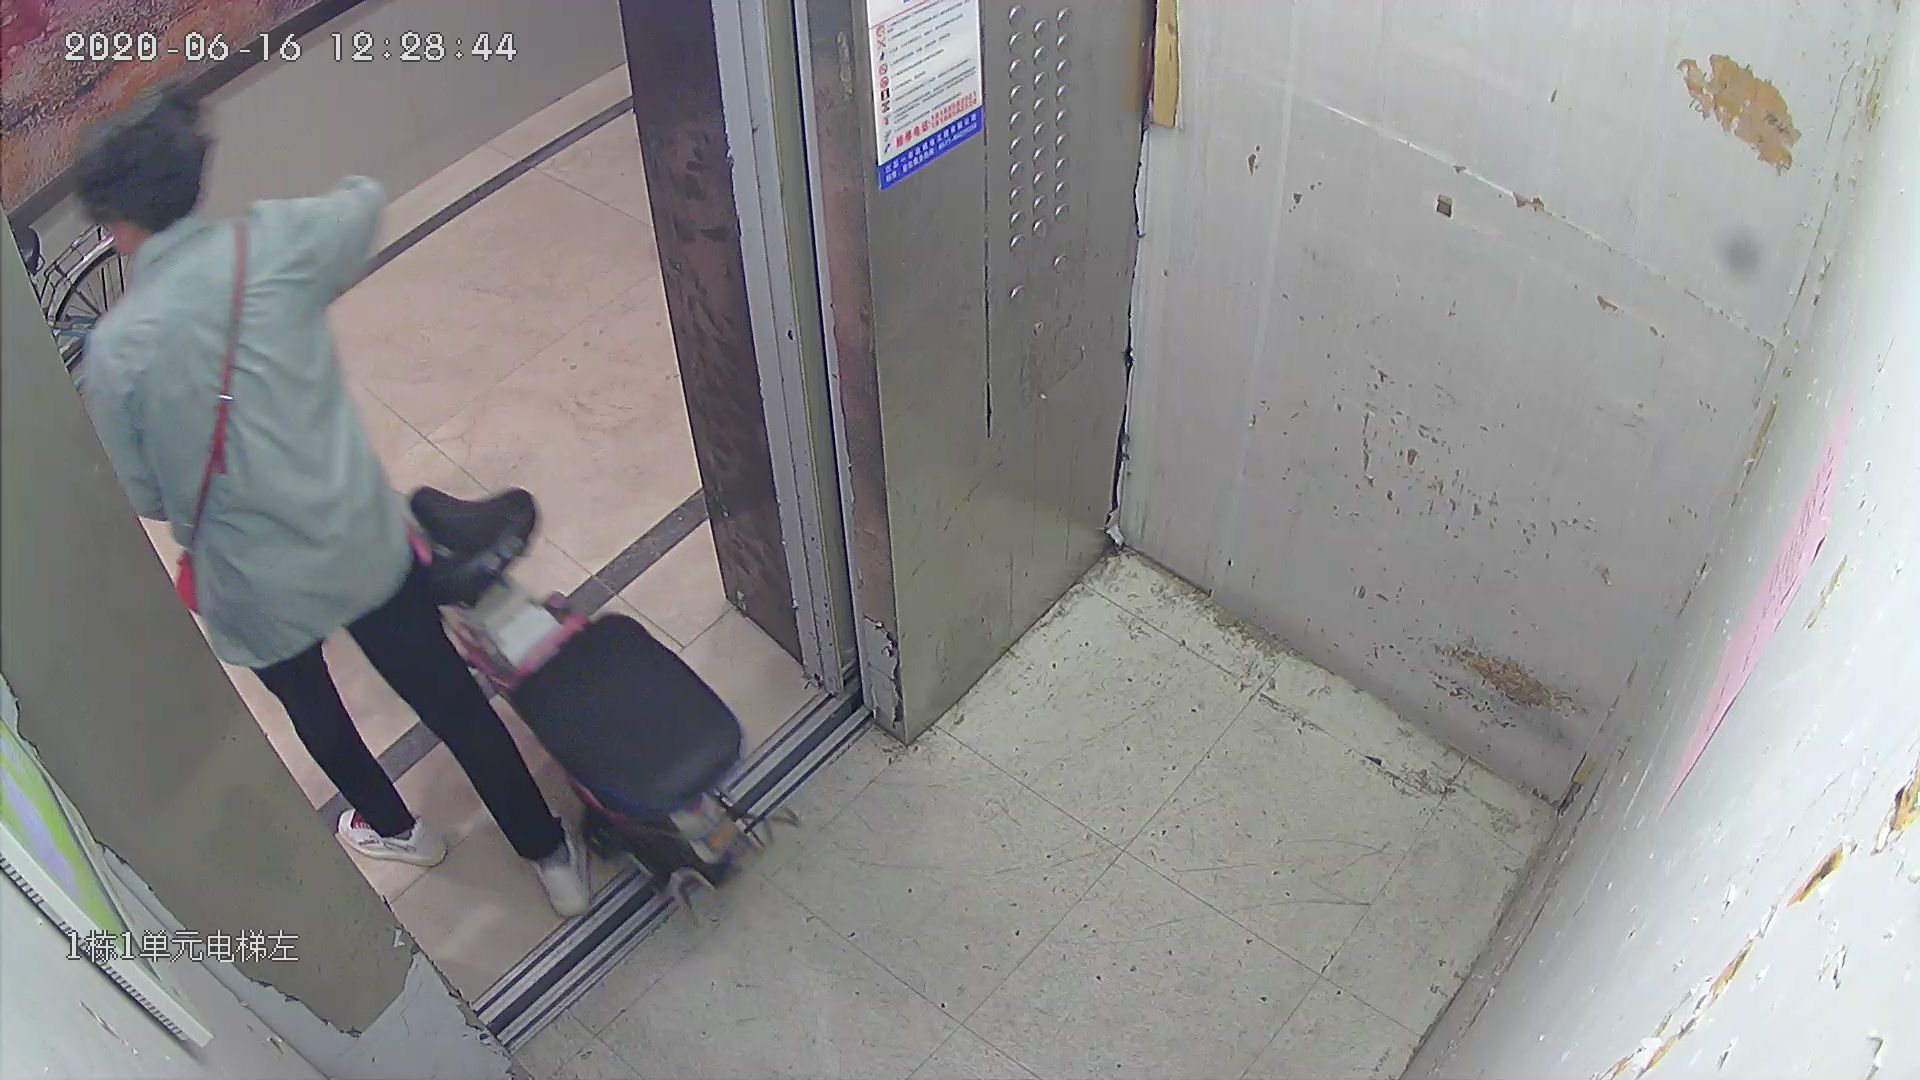Electric-bicycle: (401, 471, 773, 928)
